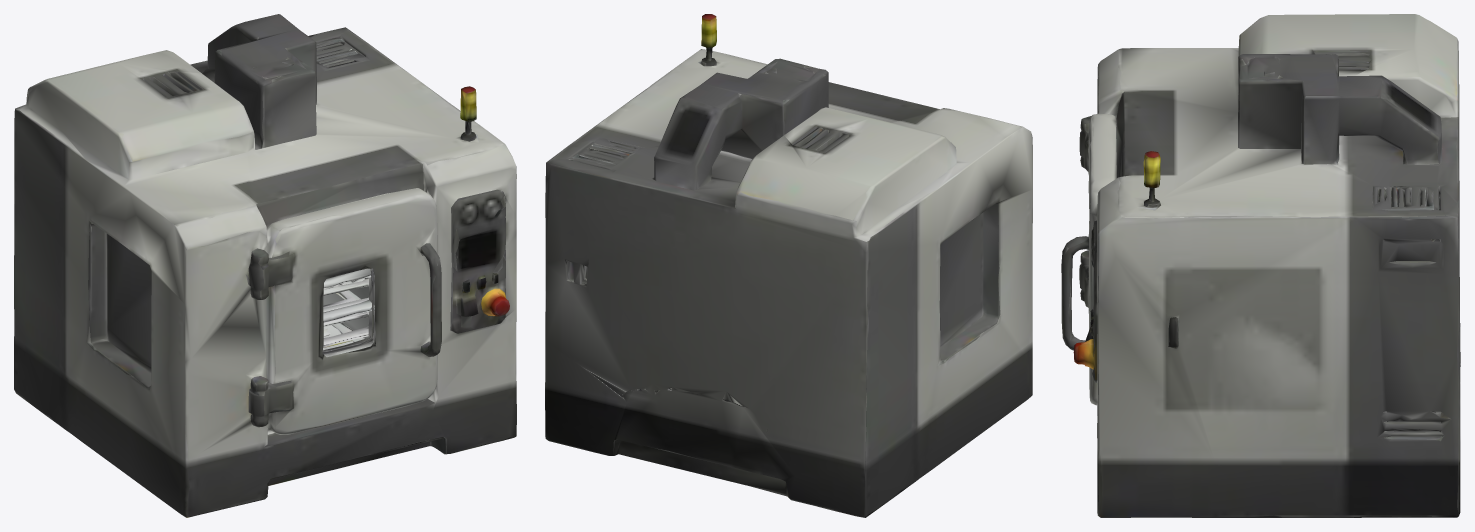
Rendered from curing_oven.glb.
The picture shows the model from 3 angles, left to right: view 1: azimuth 30°, elevation 25°; view 2: azimuth 150°, elevation 25°; view 3: azimuth 270°, elevation 25°; orthographic projection. The views are drawn at different scales.
Parts seen in each view (by area): view 1: geometry_0; view 2: geometry_0; view 3: geometry_0.
Boxes of the visible parts, box(x1,y1,x2,y2) form: geometry_0: box(14, 14, 516, 517); geometry_0: box(545, 14, 1032, 517); geometry_0: box(1061, 14, 1460, 517).
Size of the model in its own units: 0.9977 by 1 by 0.9807.
Materials: 1 (1 with a texture image).
